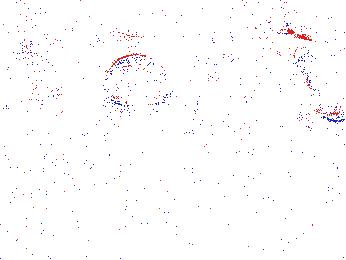moon jellyfish: (197, 38, 297, 93), (293, 40, 346, 120), (101, 54, 172, 107), (1, 34, 36, 122), (1, 52, 65, 100)
